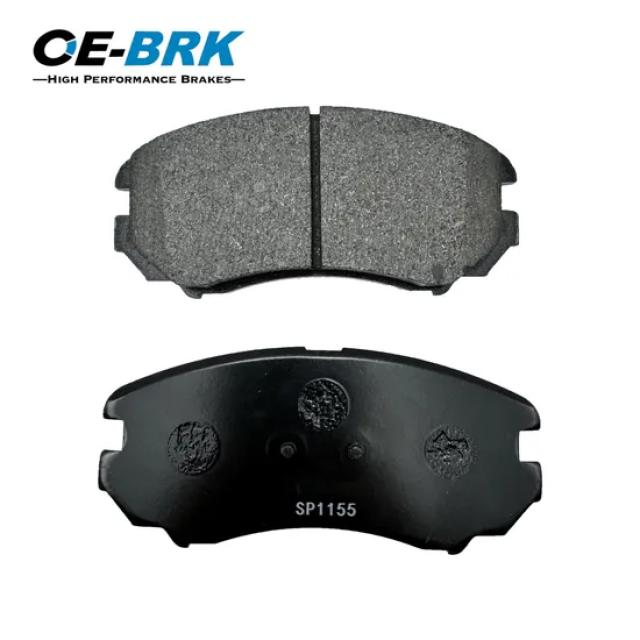brake_pad: (89, 334, 548, 565), (110, 96, 526, 304)
